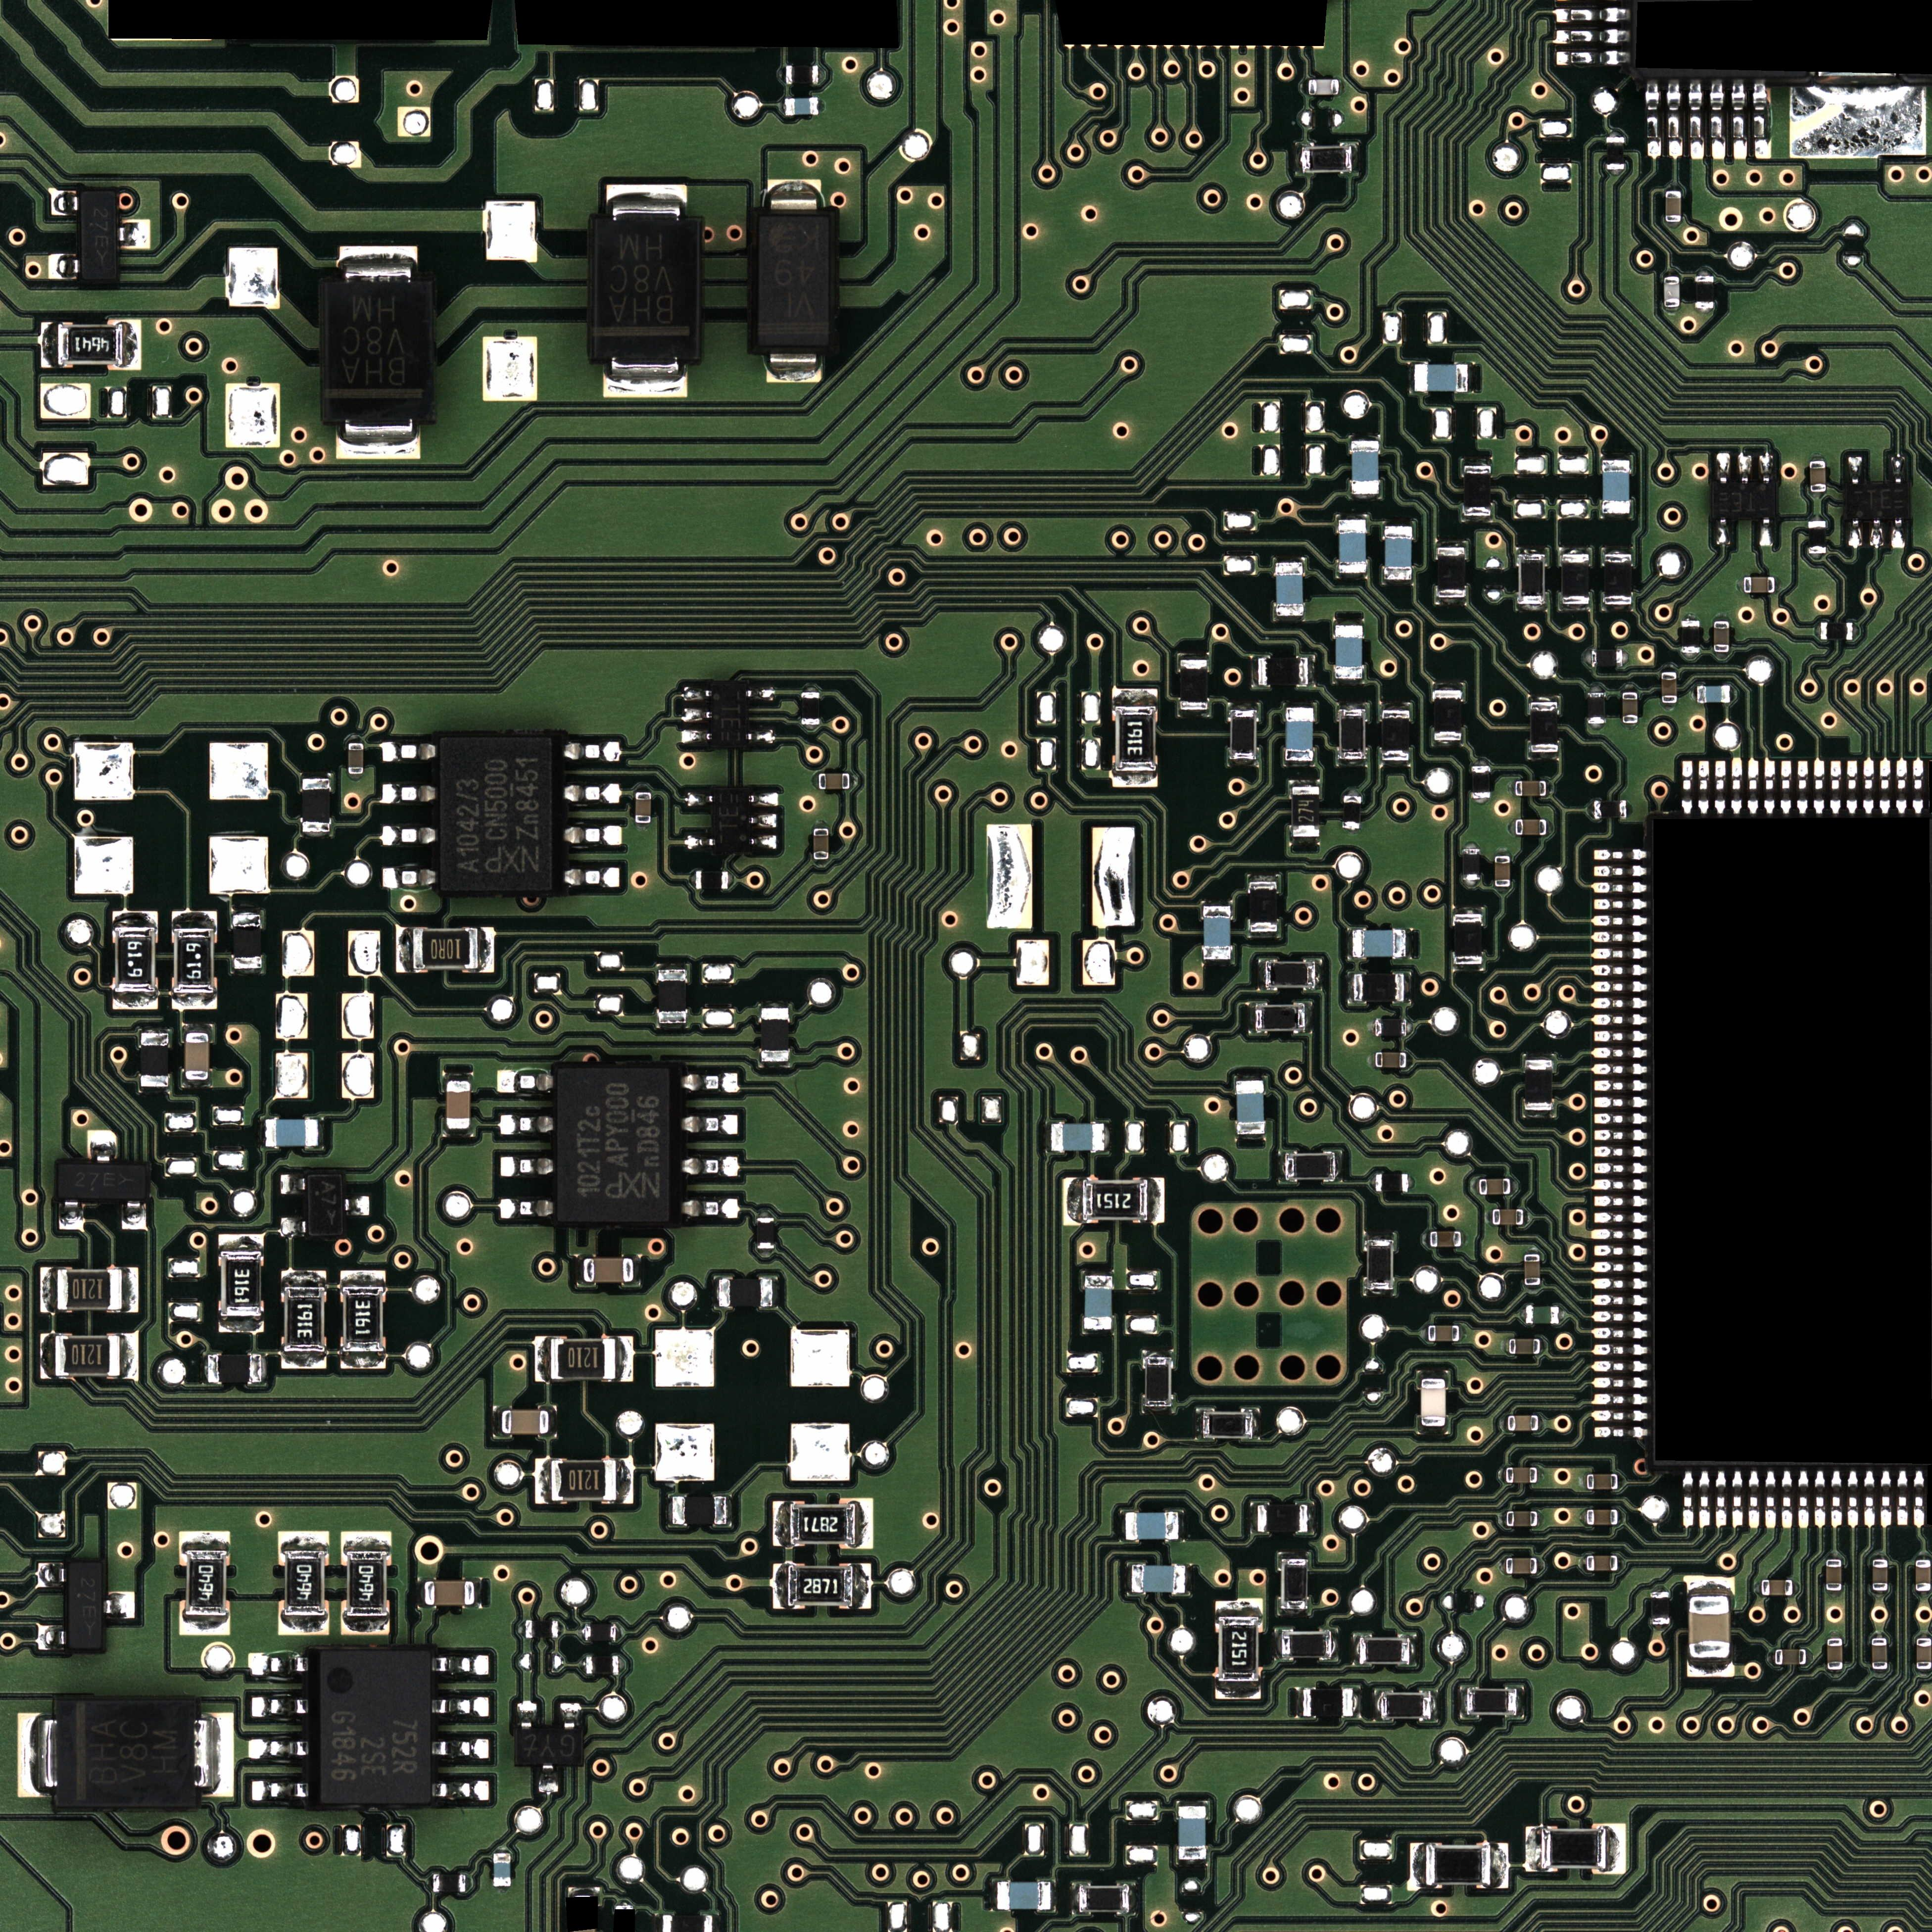Package: (552, 1063, 681, 1228), (435, 732, 564, 893), (306, 1649, 433, 1806), (53, 1695, 196, 1812), (320, 280, 435, 421), (589, 218, 702, 359), (752, 209, 835, 352), (57, 1161, 149, 1201), (80, 189, 117, 281), (65, 1560, 103, 1649), (345, 1550, 387, 1617), (113, 927, 156, 993), (283, 1286, 326, 1352), (550, 1338, 616, 1380), (283, 1550, 326, 1615), (1217, 1617, 1260, 1681), (787, 1566, 853, 1606), (550, 1460, 616, 1500), (221, 1251, 262, 1316), (57, 1269, 122, 1309), (186, 1550, 226, 1615), (55, 1336, 120, 1376), (1115, 706, 1155, 771), (173, 929, 214, 993), (58, 324, 122, 364), (414, 929, 478, 970), (791, 1504, 855, 1545), (1083, 1180, 1146, 1221), (1541, 1828, 1605, 1868), (1426, 1844, 1490, 1884), (343, 1286, 382, 1352), (1690, 1596, 1729, 1658), (515, 1729, 582, 1764), (306, 1173, 343, 1237), (711, 681, 747, 747), (713, 789, 750, 851), (1713, 483, 1776, 518), (1845, 483, 1909, 518), (207, 1353, 262, 1384), (301, 778, 331, 832), (232, 915, 262, 968), (718, 1277, 771, 1307), (656, 970, 686, 1023), (1384, 525, 1412, 580), (761, 1008, 789, 1062), (140, 1033, 168, 1086), (1276, 563, 1304, 616), (1353, 929, 1407, 957), (1203, 906, 1231, 959), (1352, 441, 1380, 494), (1178, 1806, 1207, 1859), (1085, 1276, 1113, 1329), (1125, 1511, 1178, 1539), (998, 1881, 1051, 1909), (1132, 1564, 1185, 1592), (1336, 625, 1362, 679), (265, 1118, 317, 1146), (1256, 1504, 1307, 1532), (672, 1497, 725, 1523), (1286, 708, 1313, 761), (1603, 460, 1629, 513), (1339, 520, 1366, 573), (1415, 364, 1468, 391), (1051, 1123, 1104, 1150), (1237, 1081, 1263, 1134), (1249, 881, 1277, 931), (1180, 660, 1208, 709), (1454, 915, 1483, 964), (1433, 690, 1461, 740), (1292, 787, 1320, 837), (1437, 547, 1465, 596), (1382, 709, 1410, 759), (1605, 554, 1633, 603), (1353, 973, 1403, 1001), (1463, 465, 1491, 515), (1302, 1688, 1352, 1716), (1525, 1060, 1553, 1109), (1560, 556, 1589, 603), (425, 1580, 474, 1606), (1258, 658, 1307, 685), (1530, 702, 1557, 752), (1230, 709, 1256, 759), (1467, 1688, 1516, 1714), (1145, 1357, 1171, 1407), (1281, 1559, 1307, 1608), (1518, 556, 1545, 603), (1267, 961, 1315, 987), (1382, 1691, 1430, 1718), (1286, 1154, 1334, 1180), (1361, 1638, 1408, 1665), (1283, 1631, 1330, 1658), (584, 1258, 633, 1283), (1302, 147, 1352, 172), (1339, 709, 1364, 759), (1079, 1886, 1129, 1911), (1368, 1240, 1392, 1290), (446, 1081, 471, 1129), (1256, 1005, 1304, 1030), (1421, 1378, 1445, 1426), (1203, 1412, 1251, 1437), (502, 1410, 548, 1435), (184, 1033, 209, 1079), (786, 65, 819, 85), (432, 1874, 465, 1893), (755, 1217, 775, 1249), (1681, 621, 1700, 653), (1376, 1173, 1408, 1192), (1375, 1017, 1407, 1037), (786, 97, 819, 115), (801, 692, 819, 725), (695, 872, 729, 890), (494, 1852, 511, 1886), (586, 1656, 619, 1674), (1697, 685, 1730, 702), (1808, 520, 1826, 554), (1606, 136, 1624, 170), (1525, 1306, 1559, 1323), (525, 1621, 557, 1638), (584, 1624, 616, 1642), (1343, 796, 1361, 828), (1697, 276, 1714, 308), (1472, 766, 1490, 798), (1821, 623, 1852, 640), (1591, 649, 1622, 667), (1652, 1592, 1670, 1624), (635, 791, 651, 823), (349, 743, 364, 775), (1589, 692, 1605, 724), (1622, 692, 1638, 724), (1463, 849, 1479, 881), (1428, 1325, 1460, 1341), (1430, 1231, 1461, 1247), (1506, 1467, 1537, 1483), (1775, 1649, 1806, 1665), (1506, 1559, 1537, 1575), (1872, 1559, 1888, 1591), (1826, 1559, 1842, 1591), (1594, 801, 1626, 817), (819, 773, 849, 789), (1516, 819, 1546, 835), (1516, 780, 1546, 796), (1810, 462, 1826, 492), (1665, 191, 1681, 221), (1665, 276, 1681, 306), (1495, 856, 1511, 886), (1744, 577, 1775, 593), (1309, 80, 1339, 96), (1661, 672, 1677, 702), (1523, 1254, 1539, 1284), (1587, 1555, 1617, 1571), (1587, 1509, 1617, 1525), (1762, 1580, 1792, 1596), (1493, 1208, 1523, 1224), (1507, 1415, 1537, 1431), (1587, 1474, 1617, 1490), (1507, 1511, 1537, 1527), (1479, 1178, 1509, 1194), (1872, 1638, 1888, 1668), (1828, 1638, 1844, 1668), (1916, 1638, 1932, 1668), (814, 828, 828, 860), (1375, 1053, 1407, 1067), (1714, 621, 1729, 651), (1509, 1339, 1539, 1353), (1916, 1560, 1930, 1591)
Solder: (1789, 85, 1927, 157), (195, 1713, 234, 1798), (18, 1713, 55, 1798), (336, 423, 419, 460), (603, 361, 686, 398), (338, 246, 418, 280), (607, 184, 686, 218), (1752, 80, 1773, 159), (766, 179, 821, 209), (1665, 78, 1684, 161), (1730, 80, 1750, 159), (766, 356, 823, 382), (1645, 78, 1663, 161), (1688, 80, 1706, 161), (1709, 80, 1727, 159), (248, 1652, 308, 1675), (681, 1196, 740, 1219), (251, 1695, 308, 1718), (497, 1070, 554, 1093), (248, 1737, 308, 1759), (563, 824, 623, 846), (1550, 50, 1629, 65), (432, 1780, 490, 1801), (563, 782, 621, 803), (681, 1155, 740, 1177), (1552, 7, 1629, 23), (1552, 28, 1629, 44), (251, 1780, 308, 1801), (563, 867, 619, 888), (681, 1113, 738, 1134), (683, 1072, 740, 1093), (382, 867, 437, 888), (433, 1654, 488, 1675), (433, 1737, 488, 1759), (499, 1198, 554, 1219), (499, 1115, 554, 1136), (379, 826, 437, 846), (563, 741, 621, 761), (501, 1155, 554, 1177), (380, 741, 437, 761), (380, 784, 437, 803), (433, 1697, 490, 1716), (87, 1129, 117, 1162), (278, 1615, 329, 1635), (179, 1615, 230, 1635), (1606, 1824, 1626, 1874), (119, 219, 150, 249), (1063, 1177, 1083, 1224), (278, 1532, 329, 1550), (179, 1532, 230, 1550), (1688, 1576, 1734, 1596), (122, 320, 140, 370), (341, 1532, 391, 1550), (1589, 1408, 1649, 1422), (1587, 1309, 1647, 1323), (1589, 996, 1649, 1010), (1589, 980, 1649, 994), (1746, 755, 1760, 816), (1895, 755, 1909, 816), (1911, 755, 1925, 816), (48, 253, 80, 280), (120, 1332, 138, 1380), (341, 1617, 389, 1635), (1845, 1470, 1859, 1529), (1829, 1470, 1844, 1529), (1812, 1470, 1826, 1529), (1796, 1470, 1810, 1529), (1589, 847, 1647, 862), (1589, 881, 1647, 895), (1589, 897, 1647, 911), (172, 911, 218, 929), (340, 1352, 386, 1369), (281, 1352, 327, 1369), (616, 1336, 633, 1382), (853, 1562, 870, 1608), (1688, 1658, 1734, 1675), (1730, 1472, 1744, 1529), (1681, 759, 1695, 816), (1697, 759, 1711, 816), (1713, 759, 1727, 816), (1780, 759, 1794, 816), (1796, 759, 1810, 816), (104, 1592, 134, 1619), (856, 1499, 872, 1548), (113, 993, 157, 1010), (1113, 688, 1157, 706), (1491, 1844, 1509, 1888), (1845, 761, 1859, 816), (1215, 1599, 1263, 1615), (37, 1624, 65, 1651), (58, 1200, 83, 1230), (1589, 1392, 1649, 1405), (1587, 1293, 1647, 1306), (1589, 1244, 1649, 1256), (1589, 1194, 1649, 1207), (1589, 1178, 1649, 1191), (1589, 1212, 1649, 1224), (1589, 1162, 1649, 1175), (1589, 1145, 1649, 1157), (1589, 1129, 1649, 1141), (1589, 1113, 1649, 1125), (1589, 1079, 1649, 1092), (1589, 1063, 1649, 1076), (1589, 1047, 1649, 1060), (1589, 1014, 1649, 1026), (1589, 964, 1649, 977), (1589, 948, 1649, 961), (1589, 865, 1649, 878), (1589, 915, 1649, 927), (1589, 931, 1649, 943), (1730, 755, 1743, 816), (1764, 755, 1776, 816), (1813, 755, 1826, 816), (1863, 755, 1875, 816), (41, 322, 57, 368), (396, 927, 412, 973), (111, 911, 157, 927), (172, 994, 218, 1010), (218, 1235, 264, 1251), (340, 1270, 386, 1286), (122, 1267, 138, 1313), (218, 1316, 264, 1332), (41, 1267, 57, 1313), (478, 927, 494, 973), (534, 1458, 550, 1504), (617, 1458, 633, 1504), (773, 1500, 789, 1546), (1913, 1470, 1925, 1529), (1879, 1470, 1891, 1529), (1782, 1470, 1794, 1529), (1764, 1470, 1776, 1529), (1748, 1470, 1760, 1529), (1714, 1470, 1727, 1529), (1698, 1472, 1711, 1530), (1589, 1376, 1647, 1389), (1589, 1361, 1647, 1373), (1589, 1343, 1647, 1355), (1589, 1327, 1647, 1339), (1589, 1277, 1647, 1290), (1589, 1261, 1647, 1274), (1589, 1228, 1647, 1240), (1591, 1095, 1649, 1108), (1591, 1030, 1649, 1042), (1879, 757, 1891, 816), (281, 1270, 326, 1286), (534, 1338, 550, 1382), (1113, 771, 1157, 787), (1148, 1178, 1164, 1223), (1215, 1683, 1260, 1698), (1525, 1828, 1541, 1872), (122, 1201, 147, 1230), (37, 1562, 65, 1587), (1897, 1470, 1909, 1527), (1863, 1470, 1875, 1527), (1683, 1472, 1695, 1529), (1592, 1426, 1649, 1438), (1829, 759, 1842, 816), (51, 191, 78, 216), (773, 1562, 787, 1608), (1410, 1844, 1424, 1890), (41, 1334, 55, 1378), (538, 1764, 559, 1792), (517, 1702, 538, 1729), (561, 1702, 580, 1730), (345, 1196, 370, 1215), (1868, 518, 1884, 548), (281, 1175, 304, 1194), (281, 1217, 306, 1235), (685, 835, 715, 849), (748, 793, 778, 807), (681, 729, 711, 743), (1716, 453, 1730, 483), (1737, 453, 1752, 483), (1759, 453, 1773, 483), (1891, 518, 1905, 548), (748, 835, 777, 849), (748, 814, 777, 828), (683, 708, 711, 722), (747, 729, 775, 743), (1716, 518, 1730, 547), (1759, 518, 1773, 547), (686, 793, 713, 807), (1891, 456, 1905, 483), (1849, 520, 1863, 547), (568, 1886, 602, 1897), (747, 688, 775, 701), (683, 688, 711, 701), (1849, 456, 1861, 485), (182, 1023, 212, 1033), (494, 1405, 502, 1438), (442, 1129, 474, 1138), (548, 1407, 557, 1438), (1417, 1369, 1449, 1378), (1417, 1426, 1449, 1435), (1408, 1635, 1417, 1667), (1352, 1686, 1361, 1718), (1461, 456, 1493, 465), (1560, 547, 1592, 556), (759, 1000, 789, 1008), (1290, 837, 1320, 846), (1384, 518, 1414, 527), (1304, 1001, 1313, 1031), (1364, 1231, 1394, 1240), (1247, 1003, 1256, 1033), (1274, 1629, 1283, 1660), (989, 1881, 998, 1911), (1070, 1884, 1079, 1914), (1453, 906, 1483, 915), (1529, 752, 1559, 761), (1529, 694, 1559, 702), (232, 906, 260, 915), (182, 1079, 211, 1088), (444, 1072, 472, 1081), (771, 1276, 778, 1309), (1599, 453, 1633, 460), (301, 832, 333, 839), (759, 1062, 791, 1069), (656, 962, 688, 970), (725, 1495, 732, 1527), (1247, 874, 1279, 881), (1307, 655, 1315, 686), (1201, 899, 1233, 906), (1247, 932, 1279, 939), (1336, 1150, 1343, 1182), (1044, 1122, 1051, 1154), (1403, 971, 1410, 1003), (1235, 1134, 1267, 1141), (1201, 961, 1233, 968), (1431, 1690, 1438, 1721), (1307, 1502, 1315, 1534), (1177, 1861, 1208, 1868), (1125, 1562, 1132, 1594), (1516, 547, 1548, 554), (1601, 547, 1633, 554), (1599, 513, 1631, 520), (1453, 964, 1484, 971), (1523, 1053, 1555, 1060), (1460, 1686, 1467, 1718), (1516, 1686, 1523, 1718), (301, 771, 331, 778), (260, 1353, 267, 1384), (232, 968, 262, 975), (202, 1353, 209, 1384), (418, 1578, 425, 1608), (474, 1578, 481, 1608), (577, 1254, 584, 1284), (713, 1277, 720, 1307), (658, 1023, 688, 1030), (1350, 433, 1380, 441), (1352, 143, 1359, 173), (1350, 494, 1380, 501), (1290, 780, 1320, 787), (1228, 702, 1258, 709), (1178, 653, 1208, 660), (1338, 573, 1368, 580), (1338, 513, 1368, 520), (1251, 656, 1258, 686), (1380, 702, 1410, 709), (1346, 929, 1353, 959), (1338, 759, 1368, 766), (1228, 759, 1258, 766), (1178, 709, 1208, 717), (1405, 929, 1412, 959), (1334, 678, 1364, 685), (1143, 1350, 1173, 1357), (1196, 1408, 1203, 1438), (1315, 959, 1322, 989), (1277, 1152, 1284, 1182), (1364, 1290, 1394, 1297), (1253, 1408, 1260, 1438), (1235, 1074, 1265, 1081), (1279, 1552, 1309, 1559), (1330, 1629, 1338, 1660), (1178, 1511, 1185, 1541), (1251, 1502, 1258, 1532), (1129, 1884, 1136, 1914), (1353, 1635, 1361, 1665), (1177, 1799, 1207, 1806), (1118, 1511, 1125, 1541), (1375, 1690, 1382, 1720), (1184, 1564, 1191, 1594), (1437, 541, 1467, 548), (1433, 683, 1463, 690), (1437, 598, 1467, 605), (1523, 1111, 1553, 1118), (1338, 702, 1368, 709), (140, 1086, 168, 1093), (633, 1256, 640, 1284), (1295, 145, 1302, 173), (1276, 616, 1304, 623), (1258, 961, 1265, 989), (1104, 1123, 1111, 1152), (1085, 1329, 1113, 1336), (1279, 1608, 1307, 1615), (1297, 1688, 1304, 1716), (1560, 603, 1589, 610), (1145, 1407, 1171, 1414), (1518, 603, 1545, 610), (817, 65, 826, 85), (1461, 517, 1493, 522), (1601, 605, 1633, 610), (318, 1118, 324, 1148), (140, 1028, 170, 1033), (667, 1495, 672, 1525), (1334, 619, 1364, 625), (1284, 702, 1315, 708), (1384, 580, 1414, 586), (1274, 557, 1304, 563), (1284, 761, 1315, 766), (1348, 973, 1353, 1003), (1051, 1881, 1056, 1911), (1468, 363, 1474, 393), (1433, 741, 1463, 747), (817, 97, 826, 115), (517, 1621, 525, 1638), (1300, 78, 1309, 96), (1493, 886, 1511, 895), (260, 1118, 265, 1146), (1408, 364, 1414, 393), (1382, 761, 1410, 766), (1085, 1270, 1113, 1276), (1587, 798, 1594, 819), (349, 734, 364, 743), (1422, 1231, 1431, 1247), (1495, 847, 1511, 856), (1736, 577, 1744, 593), (1507, 819, 1516, 835), (1463, 840, 1479, 849), (1537, 1415, 1546, 1431), (1826, 1591, 1842, 1599), (1617, 1555, 1626, 1571), (1617, 1474, 1626, 1490), (1578, 1555, 1587, 1571), (1767, 1649, 1776, 1665), (1499, 1511, 1507, 1527), (1578, 1474, 1587, 1490), (1916, 1668, 1932, 1677), (465, 1874, 472, 1893), (801, 685, 821, 692), (755, 1210, 775, 1217), (755, 1249, 775, 1256), (1343, 789, 1362, 796), (1606, 129, 1626, 136), (778, 97, 786, 115), (801, 725, 819, 732), (729, 872, 736, 890), (812, 860, 830, 867), (688, 870, 695, 888), (619, 1656, 626, 1674), (557, 1621, 564, 1638), (579, 1656, 586, 1674), (494, 1845, 511, 1852), (616, 1624, 623, 1642), (494, 1886, 511, 1893), (1343, 828, 1361, 835), (1408, 1175, 1415, 1192), (1368, 1051, 1375, 1069), (1368, 1019, 1375, 1037), (1407, 1019, 1414, 1037), (1665, 184, 1683, 191), (1697, 308, 1714, 315), (1714, 651, 1729, 660), (1852, 623, 1859, 640), (1713, 614, 1730, 621), (1730, 685, 1737, 702), (1681, 614, 1698, 621), (1587, 685, 1605, 692), (1472, 798, 1490, 805), (1472, 759, 1490, 766), (1523, 1284, 1541, 1292), (1486, 1208, 1493, 1226), (1500, 1339, 1509, 1353), (1523, 1208, 1530, 1226), (1520, 1306, 1527, 1323), (1559, 1306, 1566, 1323), (1523, 1247, 1541, 1254), (1651, 1585, 1668, 1592), (1652, 1624, 1670, 1631), (1499, 1468, 1507, 1483), (778, 67, 786, 83), (849, 773, 856, 789), (635, 786, 651, 793), (812, 773, 819, 789), (635, 823, 651, 830), (1339, 80, 1346, 96), (1369, 1175, 1376, 1191), (1407, 1053, 1414, 1069), (1810, 453, 1826, 460), (1697, 269, 1713, 276), (1665, 221, 1681, 228), (1546, 819, 1553, 835), (1546, 780, 1553, 796), (1810, 492, 1826, 499), (1661, 665, 1677, 672), (1813, 623, 1821, 639), (1810, 515, 1826, 522), (1589, 724, 1605, 731), (1775, 577, 1782, 593), (1683, 653, 1698, 660), (1661, 702, 1677, 709), (1810, 554, 1826, 561), (1622, 649, 1629, 665), (1463, 881, 1479, 888), (1622, 724, 1638, 731), (1583, 649, 1591, 665), (1460, 1325, 1467, 1341), (1511, 1178, 1518, 1194), (1461, 1231, 1468, 1247), (1472, 1178, 1479, 1194), (1500, 1415, 1507, 1431), (1872, 1591, 1888, 1598), (1826, 1552, 1842, 1559), (1872, 1631, 1888, 1638), (1580, 1509, 1587, 1525), (1537, 1559, 1545, 1575), (1537, 1467, 1545, 1483), (1537, 1511, 1545, 1527), (1617, 1509, 1624, 1525), (1755, 1580, 1762, 1596), (1792, 1580, 1799, 1596), (1499, 1559, 1506, 1575), (1916, 1591, 1932, 1598), (1872, 1670, 1888, 1677), (1828, 1670, 1844, 1677), (1806, 1649, 1813, 1665), (1916, 1553, 1932, 1560), (1916, 1631, 1932, 1638), (1626, 801, 1633, 817), (426, 1874, 432, 1893), (349, 775, 363, 782), (814, 821, 828, 828), (1421, 1327, 1428, 1341), (1622, 685, 1637, 692), (1539, 1339, 1546, 1353), (1828, 1631, 1842, 1638), (579, 1624, 584, 1642), (1606, 170, 1624, 175), (616, 1900, 633, 1905), (1665, 306, 1681, 311), (1663, 271, 1679, 276), (1509, 780, 1514, 796), (1691, 686, 1697, 702), (1872, 1553, 1888, 1559)
